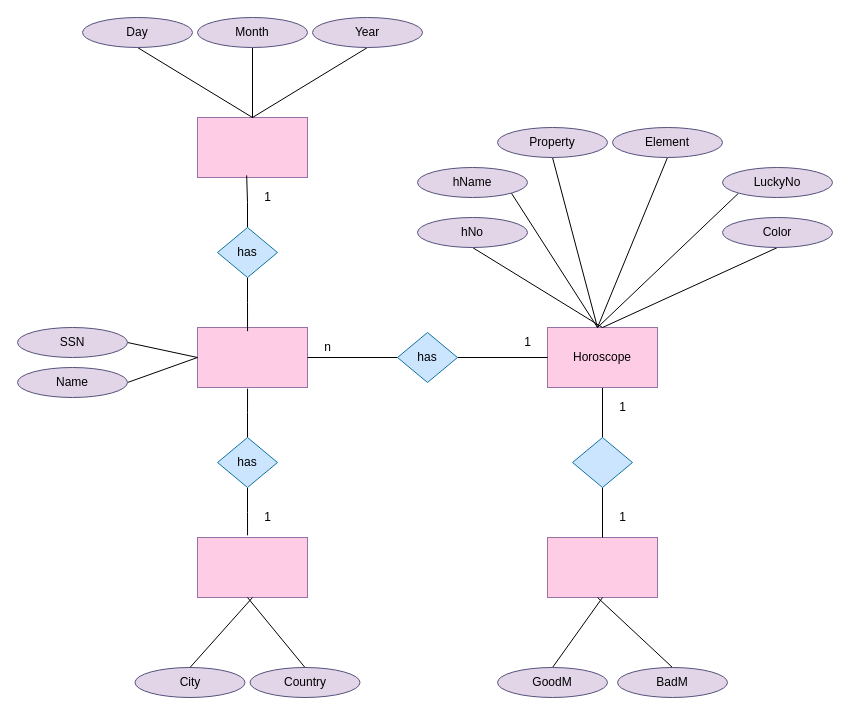
Some shapes in this 850 by 715 pixel diagram are drawn without their labels. Here are the shapes that lost their labels. From the top down, the centre of each, then its label:
At pixel 252 147: "BirthDate".
At pixel 252 357: "Person".
At pixel 602 462: "with".
At pixel 252 567: "BirthPlace".
At pixel 602 567: "Match".
